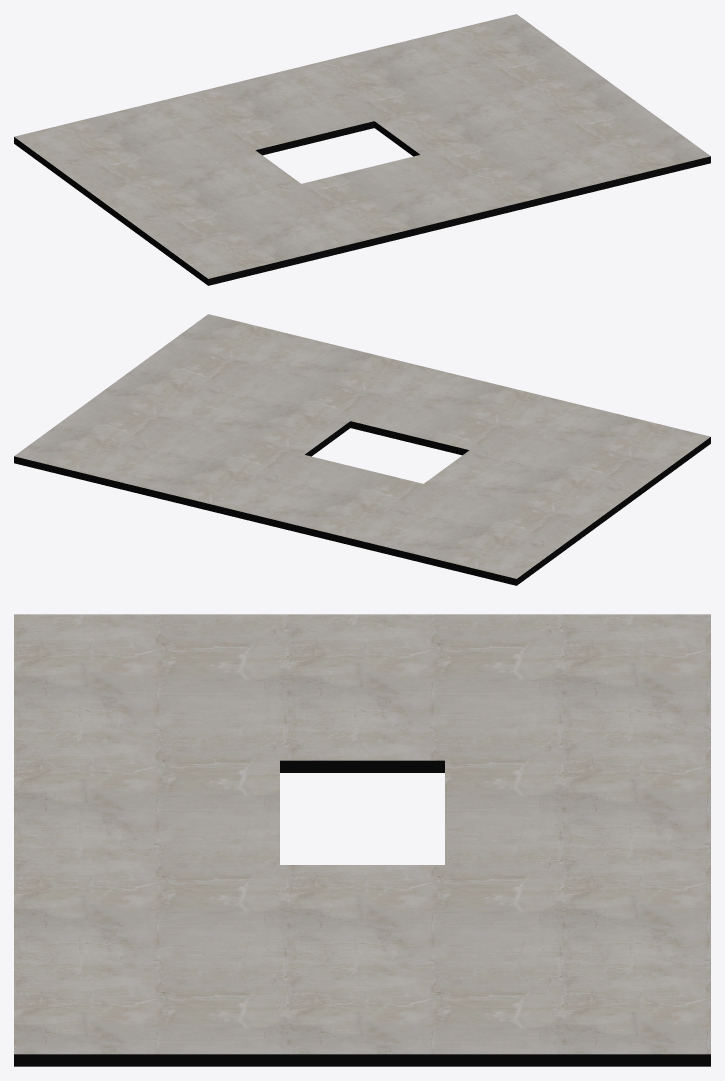
Rendered from losa3x2.DAE.
The picture shows the model from 3 angles, top to bottom: view 1: azimuth 30°, elevation 25°; view 2: azimuth 150°, elevation 25°; view 3: azimuth 270°, elevation 25°; orthographic projection. The views are drawn at different scales.
Visible parts, largest first — view 1: loza2x3; view 2: loza2x3; view 3: loza2x3.
Boxes of the visible parts, x1,y1,x2,y2 form: loza2x3: (14,14,710,285); loza2x3: (14,314,710,585); loza2x3: (14,614,710,1066).
Bounding box in the file's own units: 2270 × 30 × 1520.
